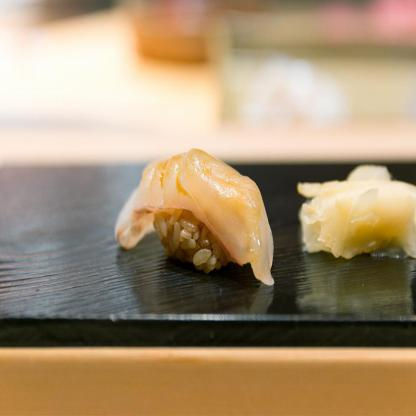hirame: (107, 142, 285, 291)
